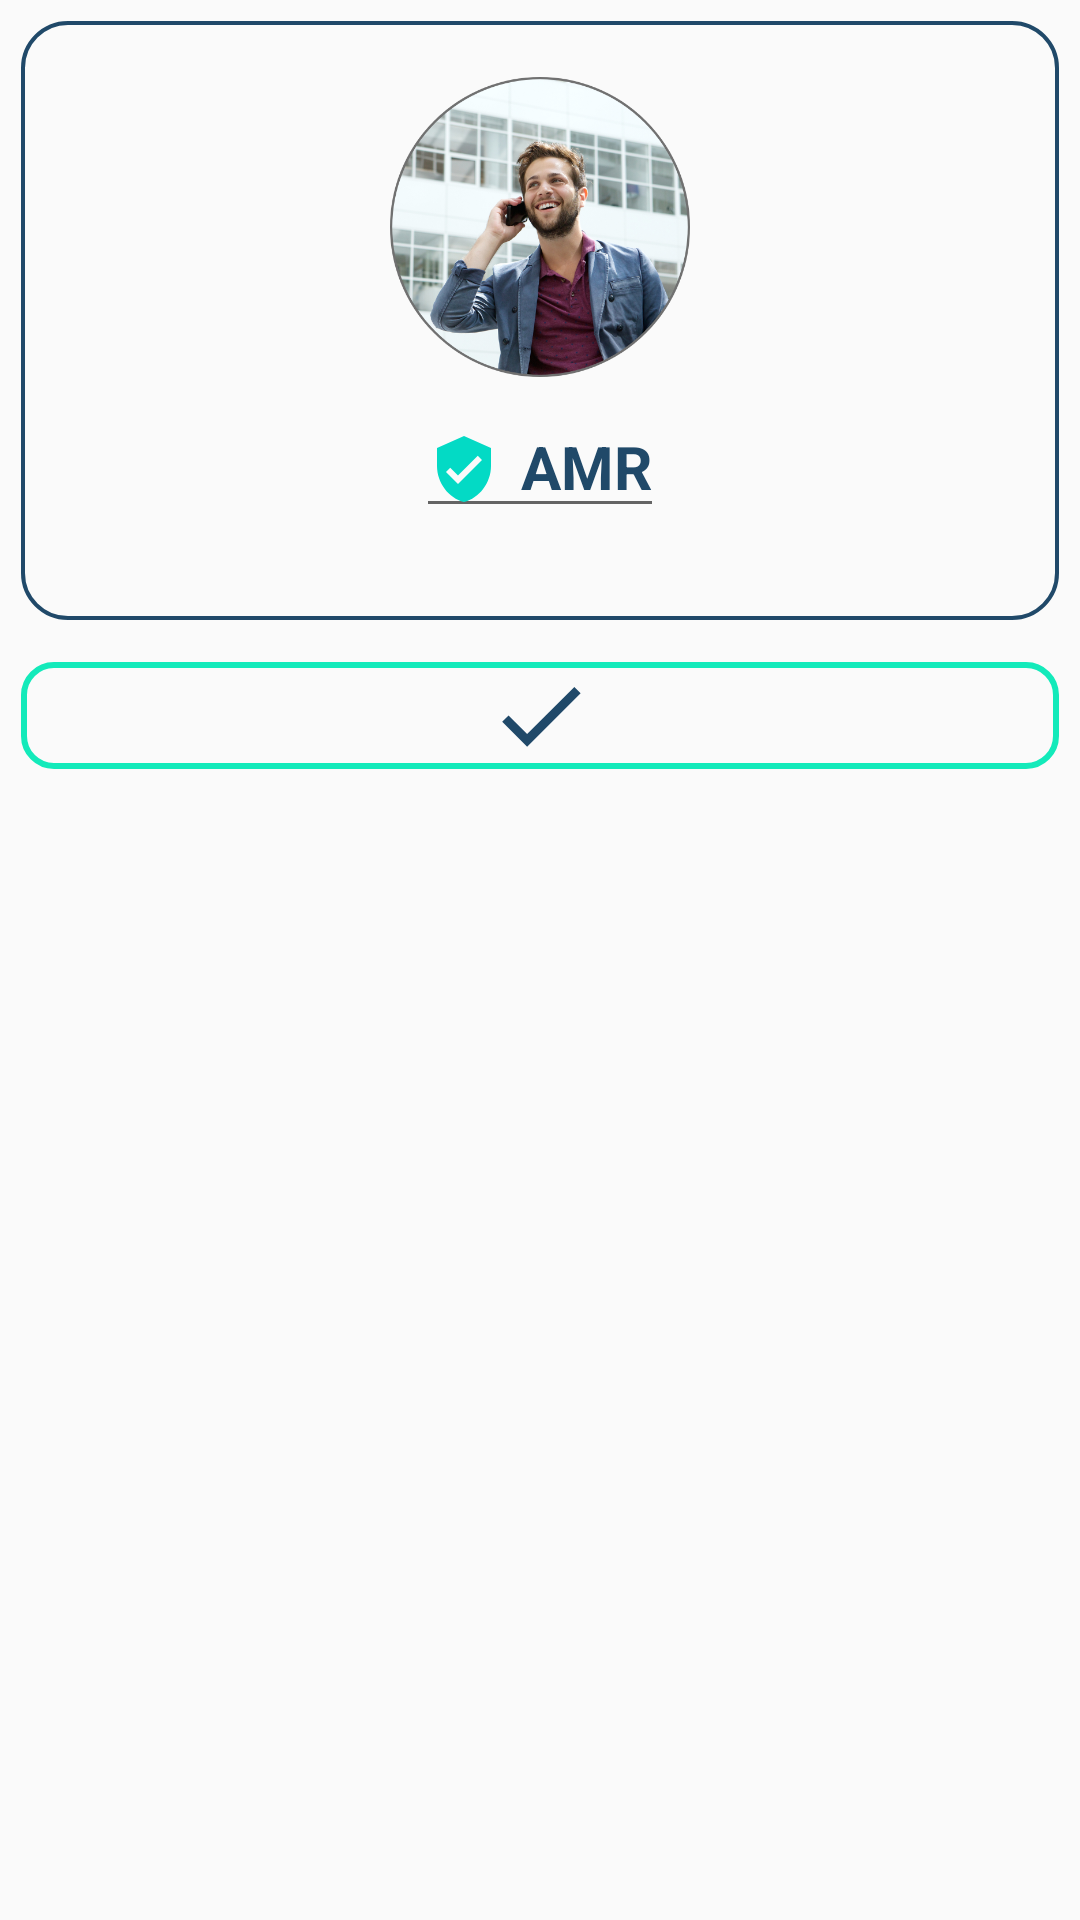

Point at icon controls on the screen. Image size 1080x1920, points as [x,y].
person: [540,227]
